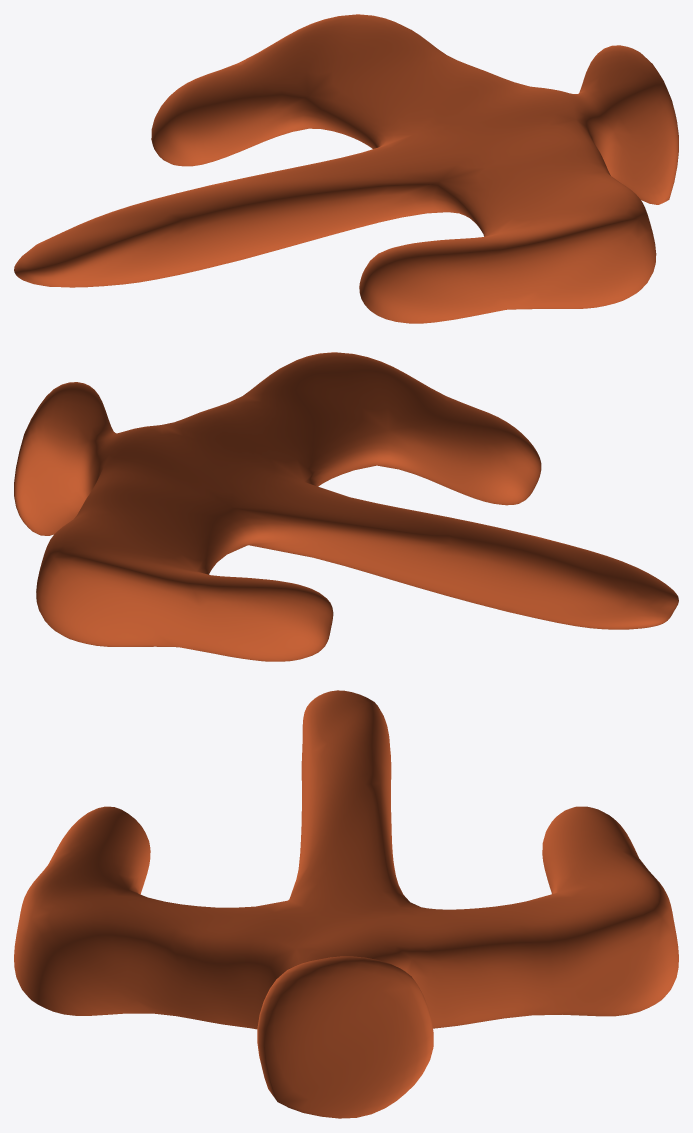
Rendered from ship.obj.
3 views of the same model, one above another, from view 1: azimuth 30°, elevation 25°; view 2: azimuth 150°, elevation 25°; view 3: azimuth 270°, elevation 25° (orthographic). The views are drawn at different scales.
Parts seen in each view (by area): view 1: Cube; view 2: Cube; view 3: Cube.
Boxes of the visible parts, x1,y1,x2,y2 form: Cube: (14,14,678,323); Cube: (14,352,678,661); Cube: (14,690,678,1118).
Bounding box in the file's own units: 9.08 × 1.97 × 7.39.
